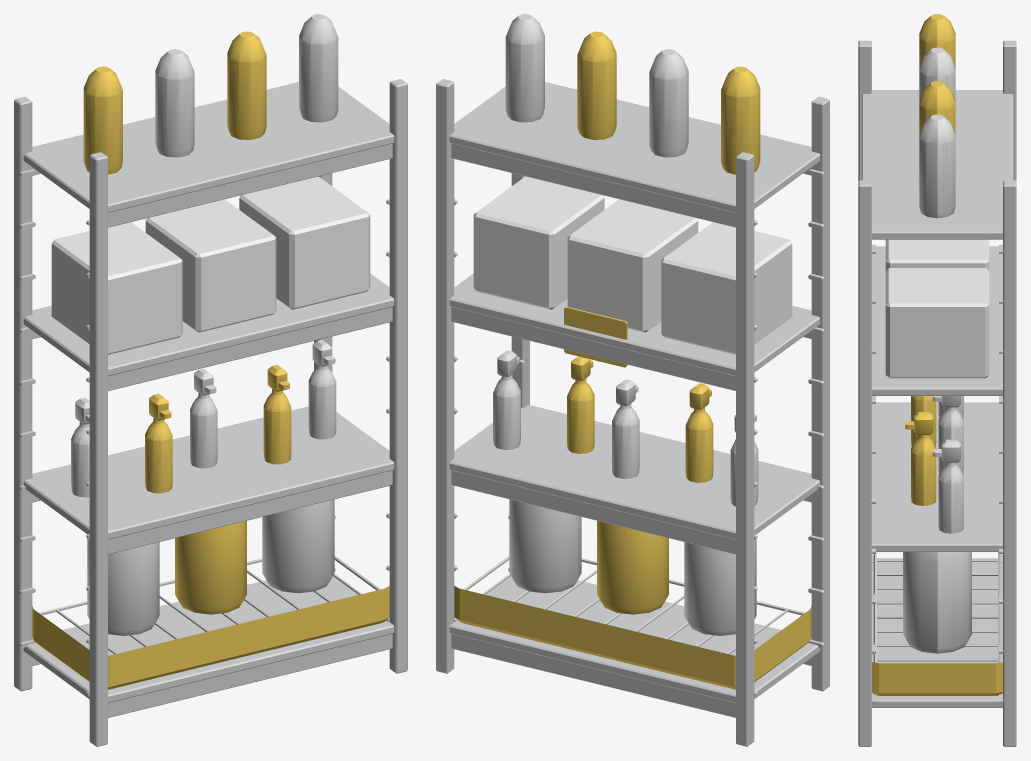
File: laundrette-and-cleaning-chemical-shelving-bunded-c091d7b4__25575.glb
3 views of the same model, side by side, from view 1: azimuth 30°, elevation 25°; view 2: azimuth 150°, elevation 25°; view 3: azimuth 270°, elevation 25° (orthographic). The views are drawn at different scales.
Visible parts, largest first — view 1: chemical-shelving-bunded; view 2: chemical-shelving-bunded; view 3: chemical-shelving-bunded.
Part boxes in pixels (left/top/right/bottom): chemical-shelving-bunded: left=14, top=14, right=407, bottom=746; chemical-shelving-bunded: left=436, top=14, right=829, bottom=746; chemical-shelving-bunded: left=858, top=14, right=1016, bottom=746.
Size of the model in its own units: 1 by 1.95 by 0.46.
